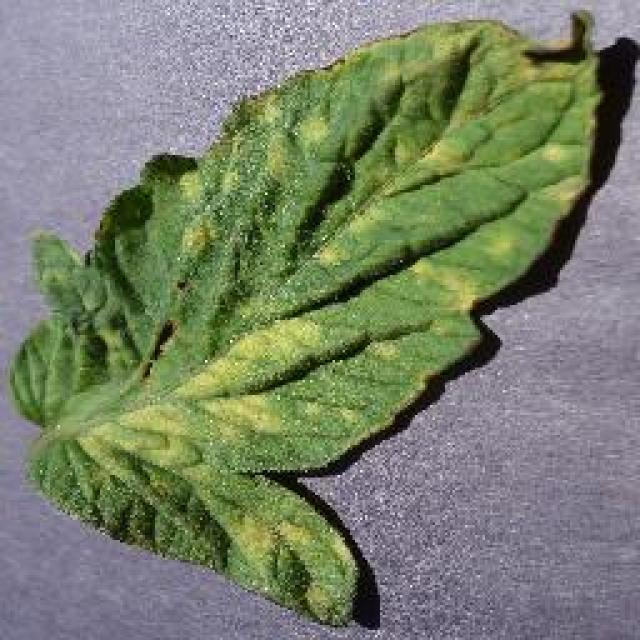Tomato___Leaf_Mold: (10, 12, 600, 622)
